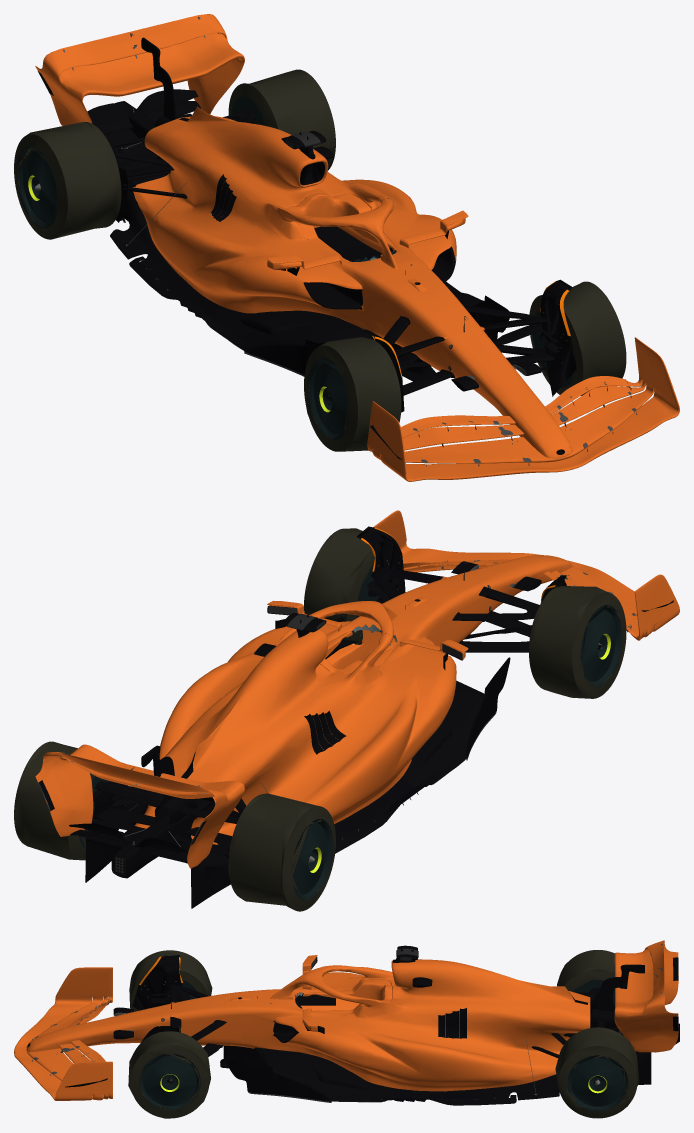
File: f1-21-mclaren.obj
3 views of the same model, one above another, from view 1: azimuth 30°, elevation 25°; view 2: azimuth 150°, elevation 25°; view 3: azimuth 270°, elevation 25° (orthographic). The views are drawn at different scales.
Visible parts, largest first — view 1: BODY, WHEEL_RR, WHEEL_RF, WHEEL_LF, WHEEL_LR; view 2: BODY, WHEEL_RR, WHEEL_RF, WHEEL_LF, WHEEL_LR; view 3: BODY, WHEEL_LR, WHEEL_LF, WHEEL_RF, WHEEL_RR.
Boxes of the visible parts, x1,y1,x2,y2 form: BODY: (35, 14, 679, 481); WHEEL_RR: (14, 122, 121, 239); WHEEL_RF: (304, 328, 404, 451); WHEEL_LF: (529, 279, 626, 396); WHEEL_LR: (228, 69, 335, 170); BODY: (35, 510, 679, 908); WHEEL_RR: (228, 793, 335, 911); WHEEL_RF: (529, 575, 626, 698); WHEEL_LF: (304, 526, 405, 644); WHEEL_LR: (14, 741, 109, 860); BODY: (14, 940, 679, 1105); WHEEL_LR: (555, 1027, 639, 1118); WHEEL_LF: (128, 1025, 210, 1118); WHEEL_RF: (129, 950, 212, 1011); WHEEL_RR: (557, 950, 614, 1005).
Bounding box in the file's own units: 1.23 × 0.6988 × 3.43.
